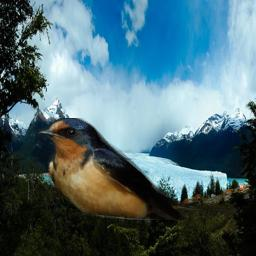Swallow: (37, 118, 243, 220)
